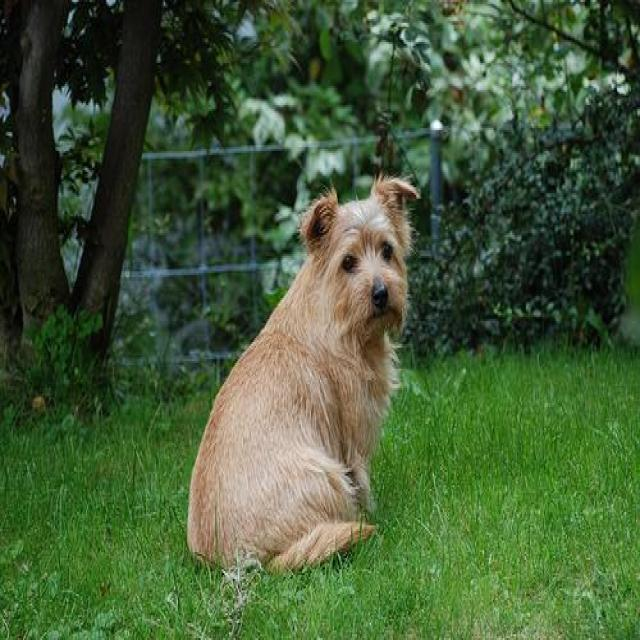dogs: (122, 110, 459, 584)
